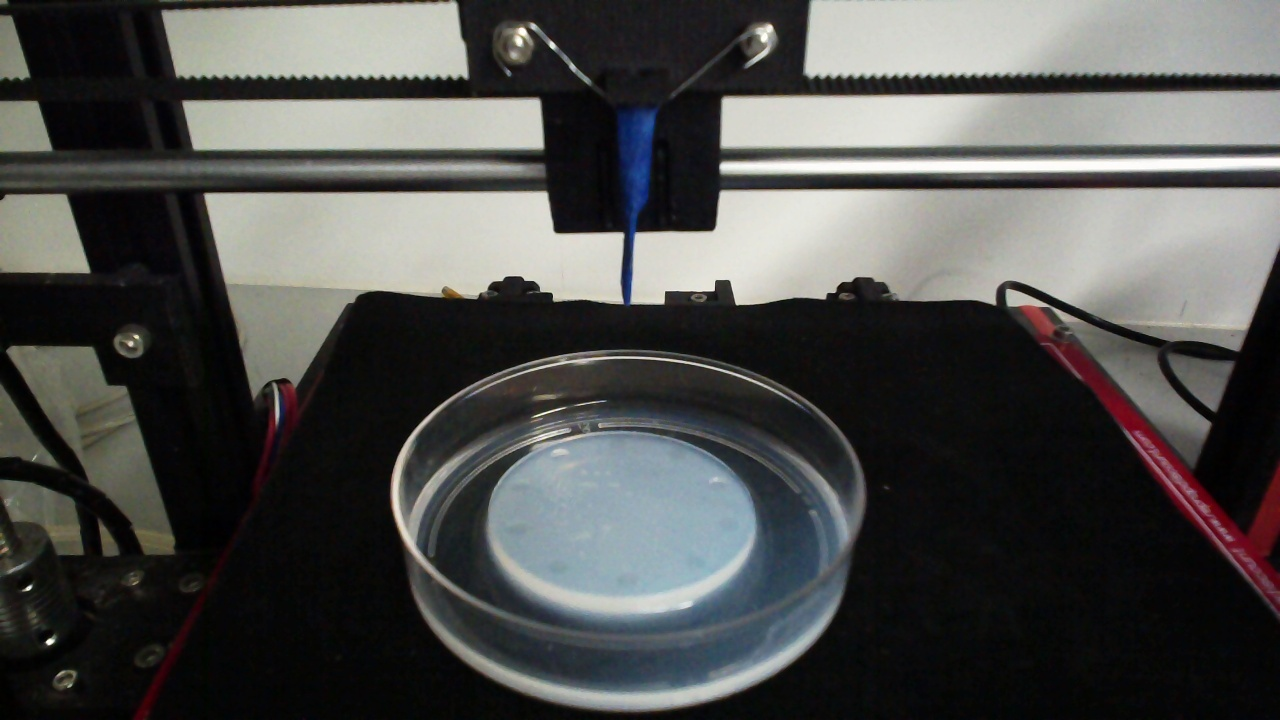groove: (502, 520, 528, 539), (664, 445, 689, 464), (612, 572, 638, 590), (507, 477, 531, 496), (706, 474, 730, 493), (681, 552, 706, 570), (545, 558, 570, 575), (715, 517, 742, 532), (548, 447, 573, 462), (606, 435, 629, 451)
needle: (614, 107, 657, 306)
